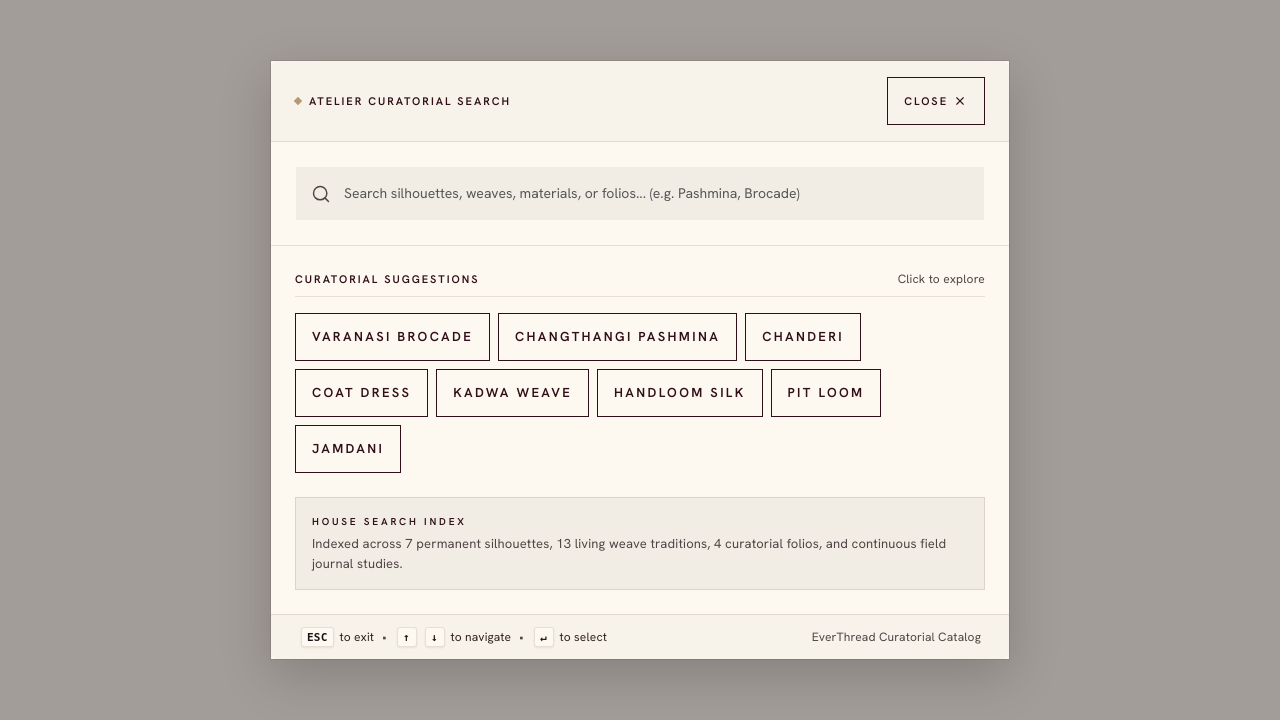
Test case: Atelier Curatorial Search Modal Suite › filters and displays monograph stories and journal essays
The width and height of the screenshot is (1280, 720).
Replace the text in the field with test id "search-input" with "Drape" at (640, 194), box [295,166,985,221]
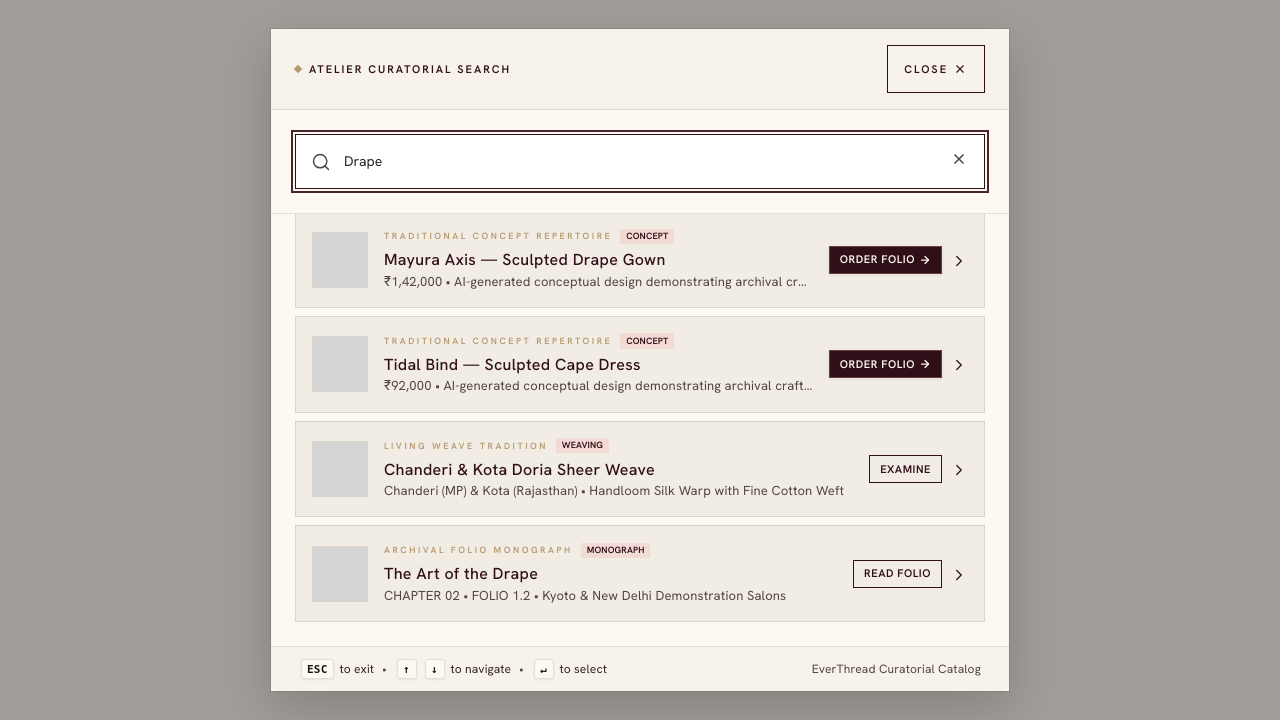
Expected: the heading "The Art of the Drape" is shown, [384,563,538,584]
